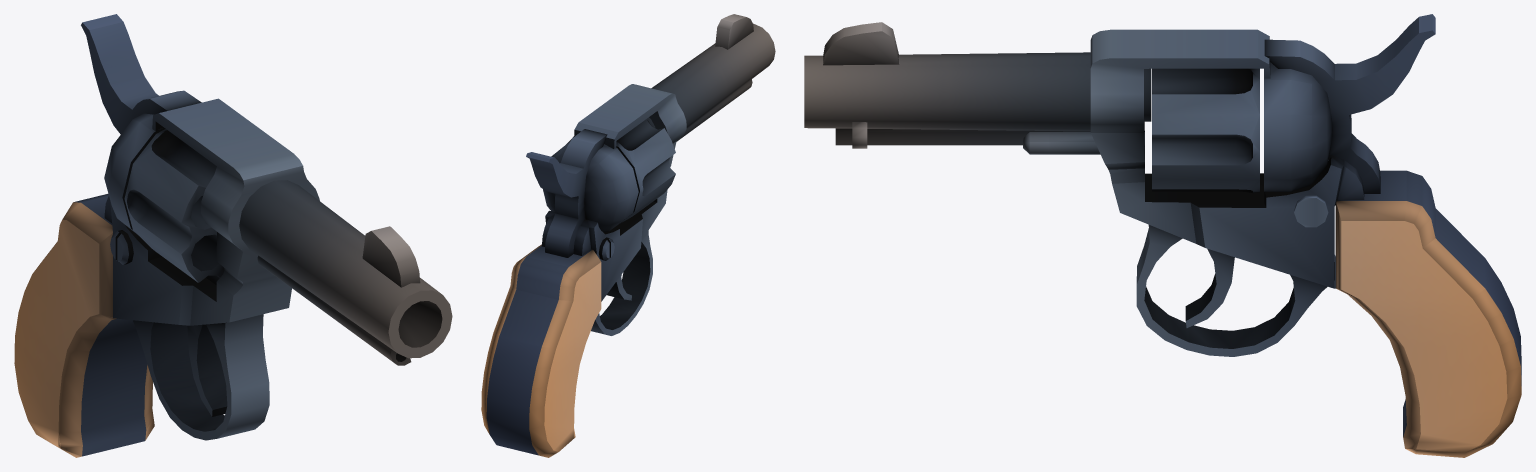
The model's file is FireArms_Revolver.gltf.
3 renders of one model, left to right at view 1: azimuth 30°, elevation 25°; view 2: azimuth 150°, elevation 25°; view 3: azimuth 270°, elevation 25°, orthographic. The views are drawn at different scales.
Parts seen in each view (by area): view 1: FireArms_Revolver; view 2: FireArms_Revolver; view 3: FireArms_Revolver.
Part boxes in pixels (x1=…): FireArms_Revolver: x1=14, y1=14, x2=452, y2=457; FireArms_Revolver: x1=481, y1=14, x2=775, y2=457; FireArms_Revolver: x1=804, y1=14, x2=1521, y2=457.
Bounding box in the file's own units: 0.1471 × 0.4685 × 0.7243.
Materials: 2 (2 with a texture image).
